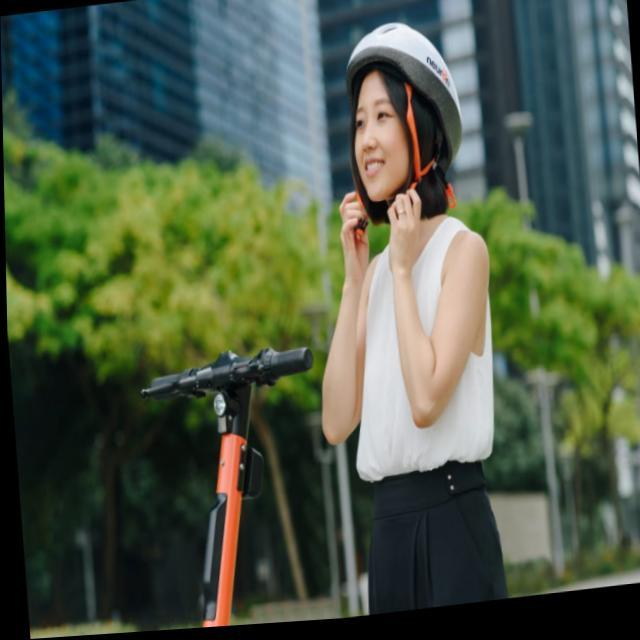Helmet: (338, 20, 466, 228)
